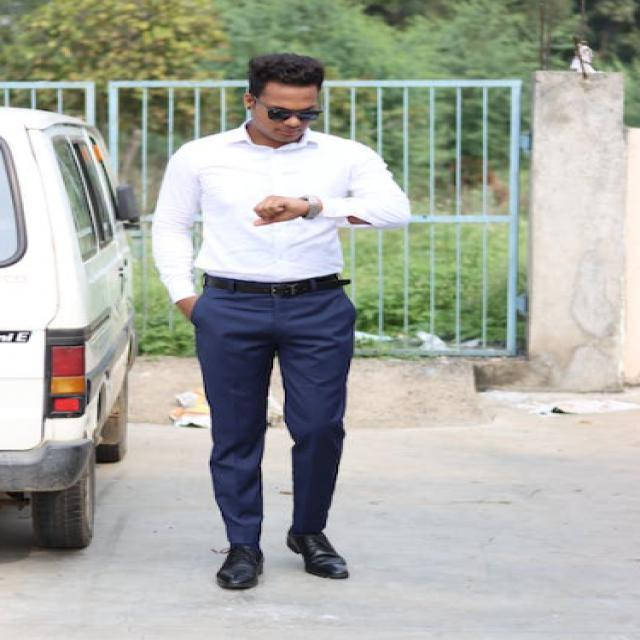Watch: (296, 189, 320, 223)
